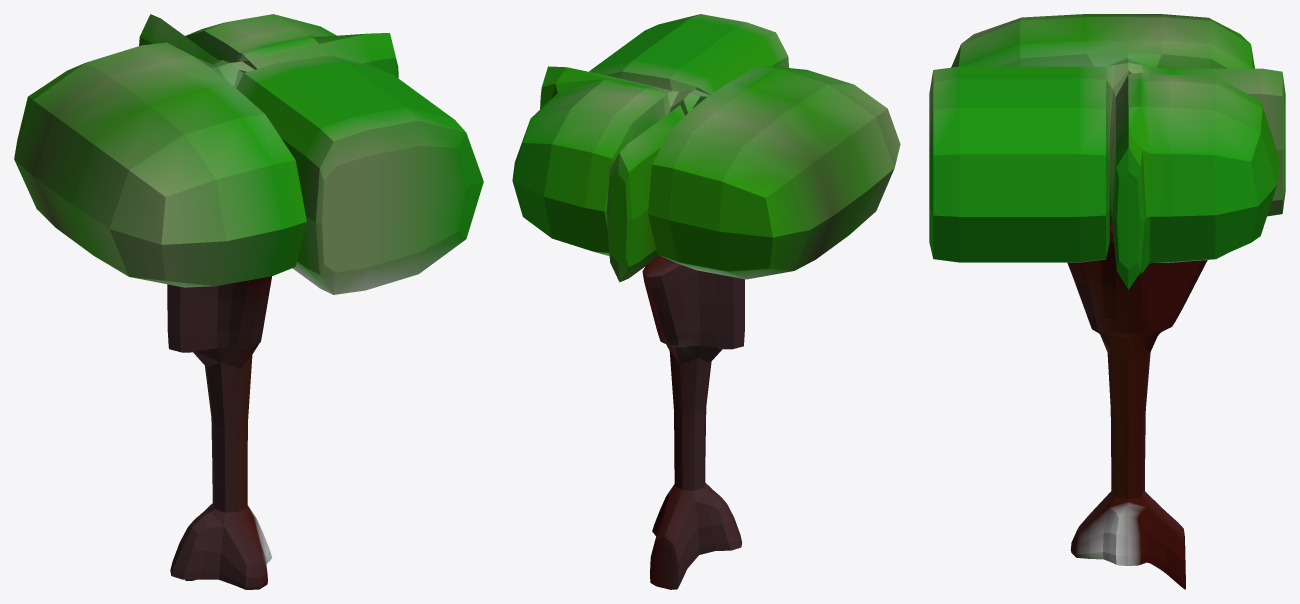
The model's file is tree5.glb.
3 views of the same model, side by side, from view 1: azimuth 30°, elevation 25°; view 2: azimuth 150°, elevation 25°; view 3: azimuth 270°, elevation 25° (orthographic). The views are drawn at different scales.
Visible parts, largest first — view 1: Cube; view 2: Cube; view 3: Cube.
Boxes of the visible parts, x1,y1,x2,y2 form: Cube: (14, 14, 483, 589); Cube: (512, 14, 900, 589); Cube: (929, 14, 1285, 589).
Size of the model in its own units: 11.88 by 17.8 by 10.99.
